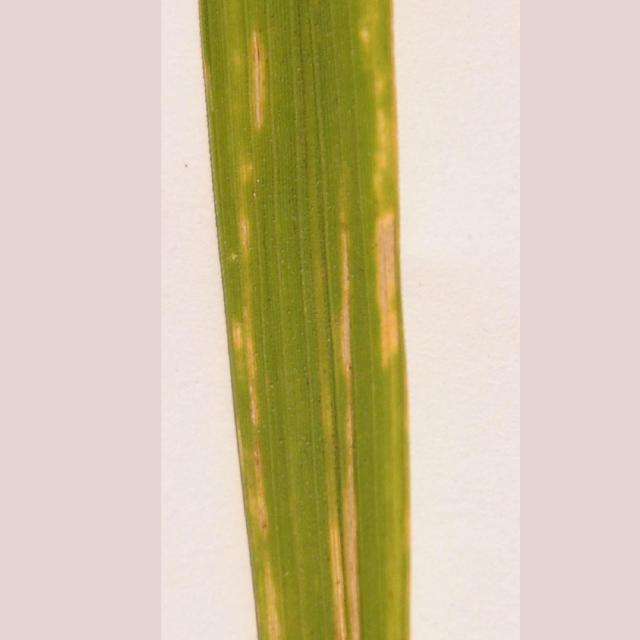Bacterial leaf blight: (302, 181, 368, 640), (226, 207, 288, 640), (358, 1, 400, 370), (226, 12, 278, 138), (214, 160, 260, 193)
